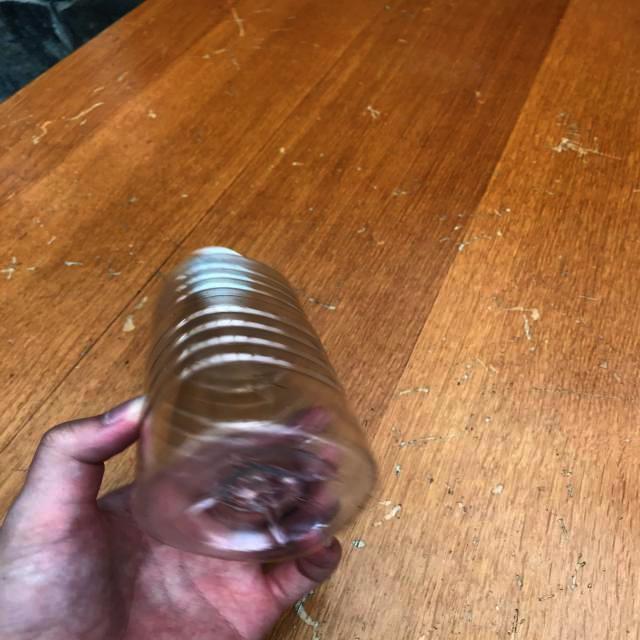bottle: (132, 247, 377, 563)
